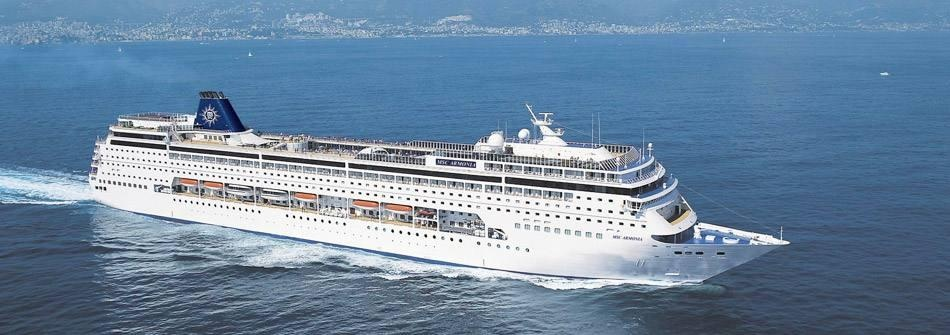youlun: (87, 83, 794, 290)
